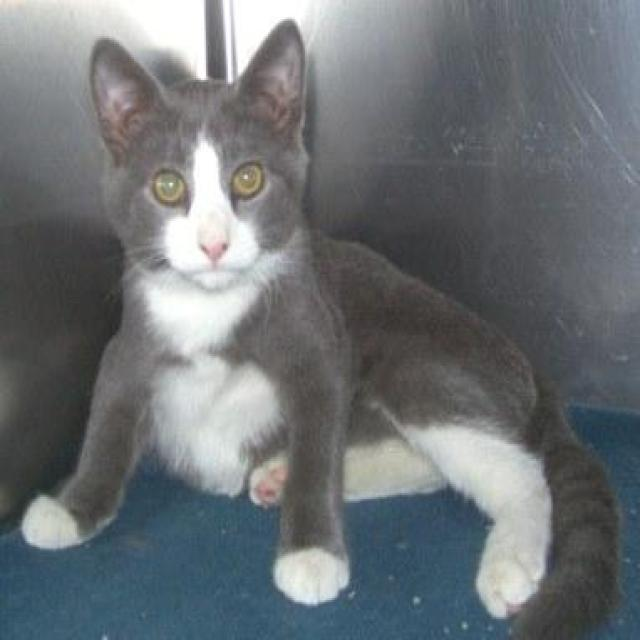Cats: (20, 15, 623, 638)
